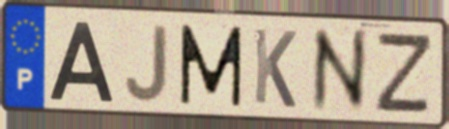A: (46, 19, 117, 103)
J: (122, 23, 170, 104)
K: (251, 25, 299, 111)
M: (177, 22, 245, 109)
N: (309, 26, 370, 116)
Z: (371, 32, 436, 117)
